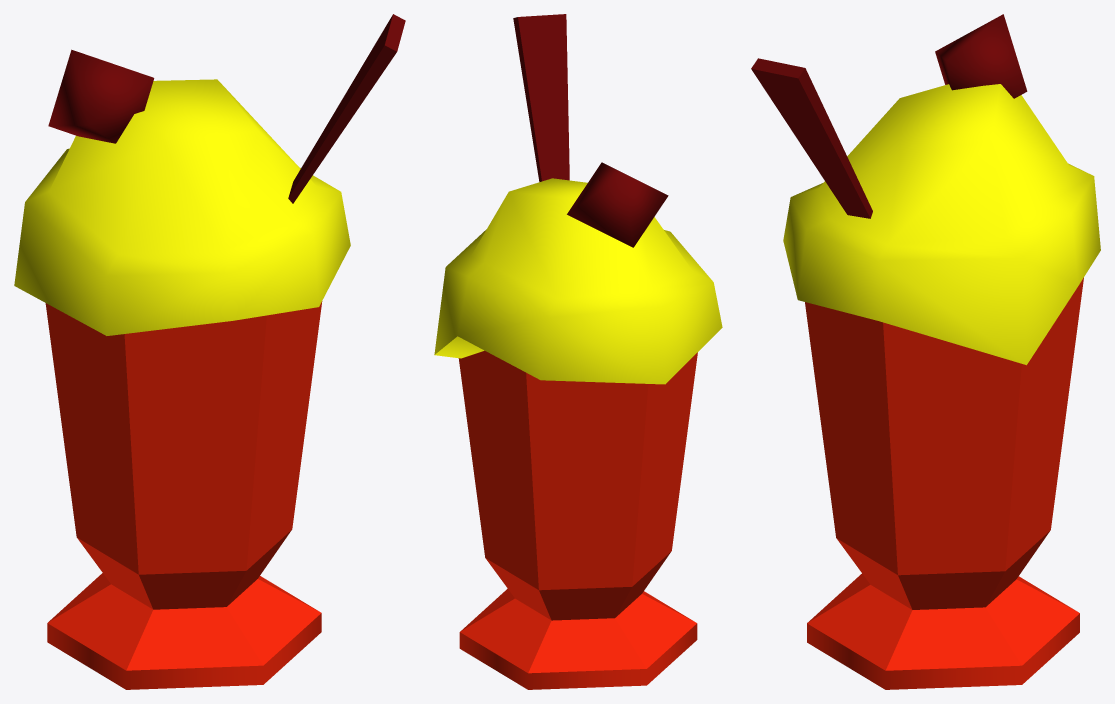
File: icecup_orangeyellow.FBX
The picture shows the model from 3 angles, left to right: view 1: azimuth 30°, elevation 25°; view 2: azimuth 150°, elevation 25°; view 3: azimuth 270°, elevation 25°; orthographic projection. The views are drawn at different scales.
Visible parts, largest first — view 1: icecup_orangeyellow; view 2: icecup_orangeyellow; view 3: icecup_orangeyellow.
Boxes of the visible parts, x1=… form: icecup_orangeyellow: x1=14, y1=14, x2=405, y2=689; icecup_orangeyellow: x1=434, y1=14, x2=722, y2=689; icecup_orangeyellow: x1=751, y1=14, x2=1100, y2=689.
Bounding box in the file's own units: 35.02 × 75.52 × 37.58.
